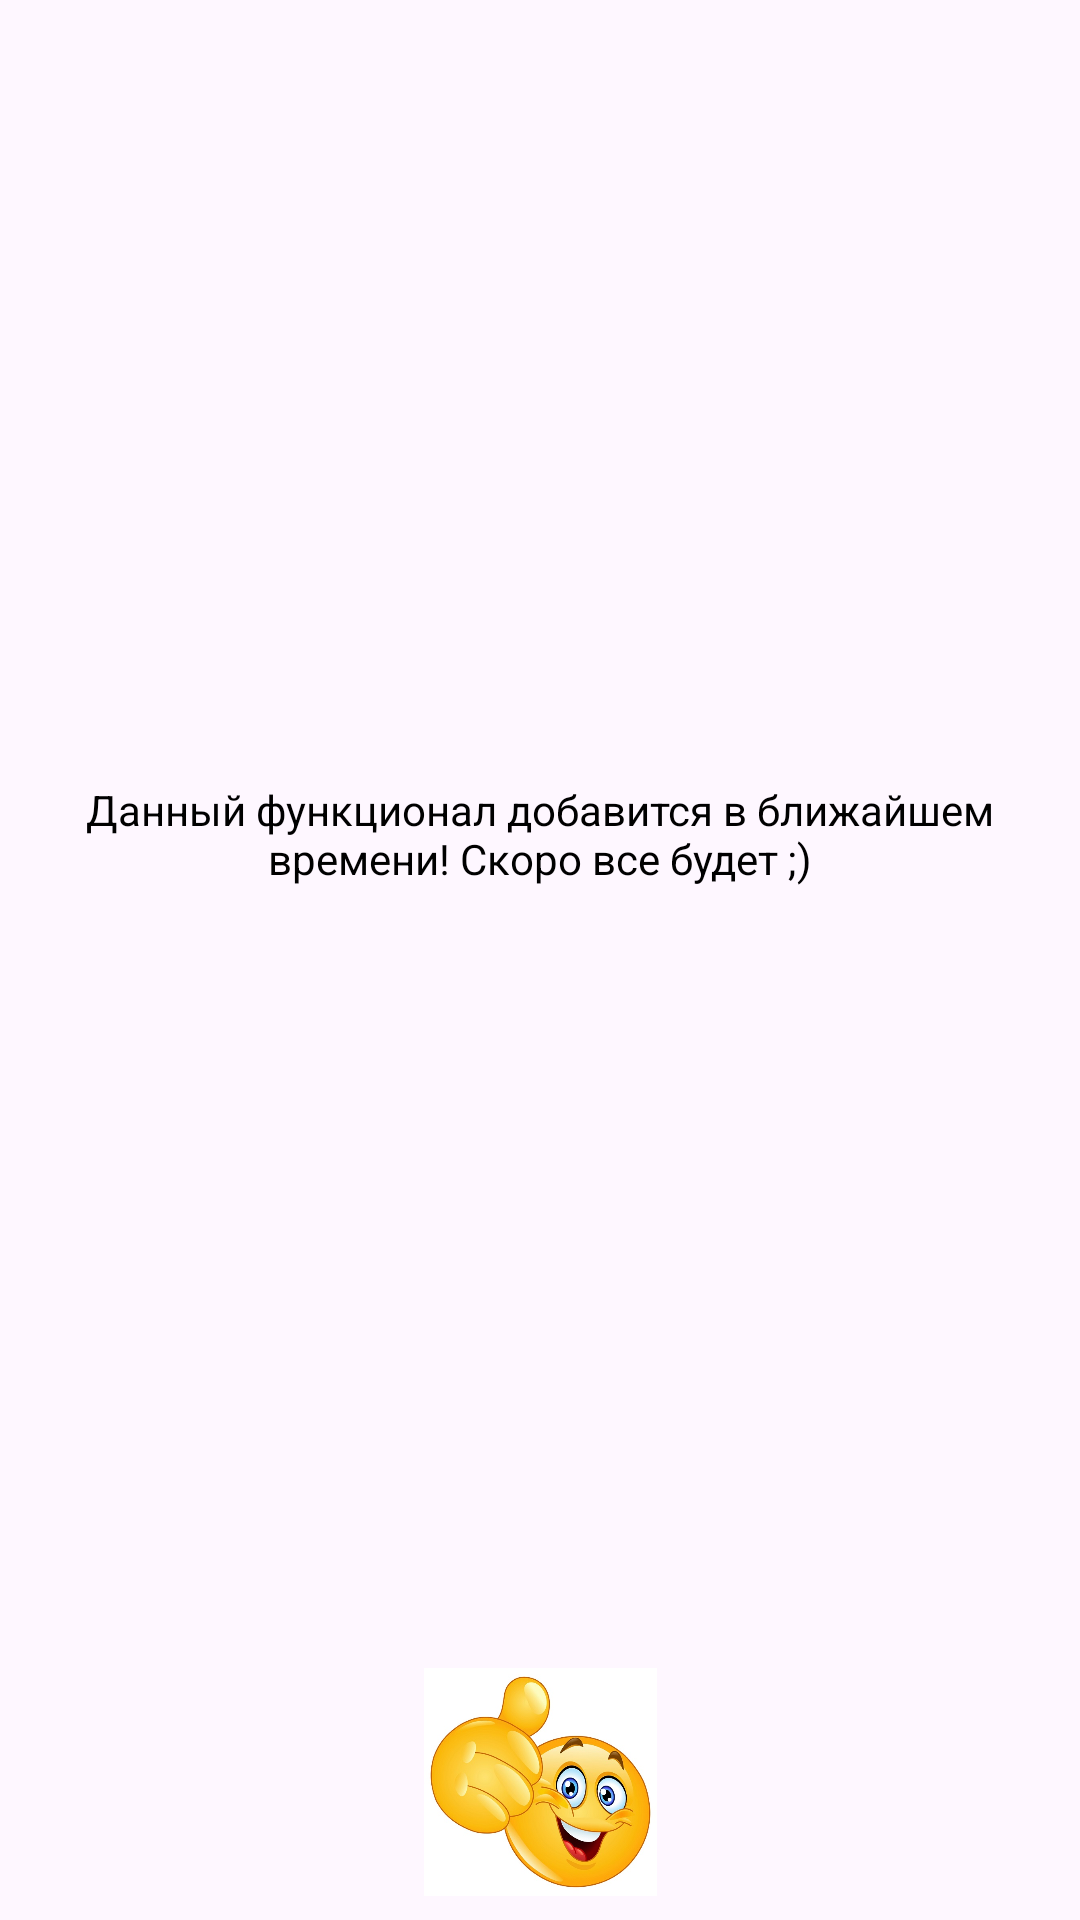

Icons on this 1080x1920 Android screen, each with its box as (x1, y1, x2, y2):
smile: (430, 1676, 651, 1888)
